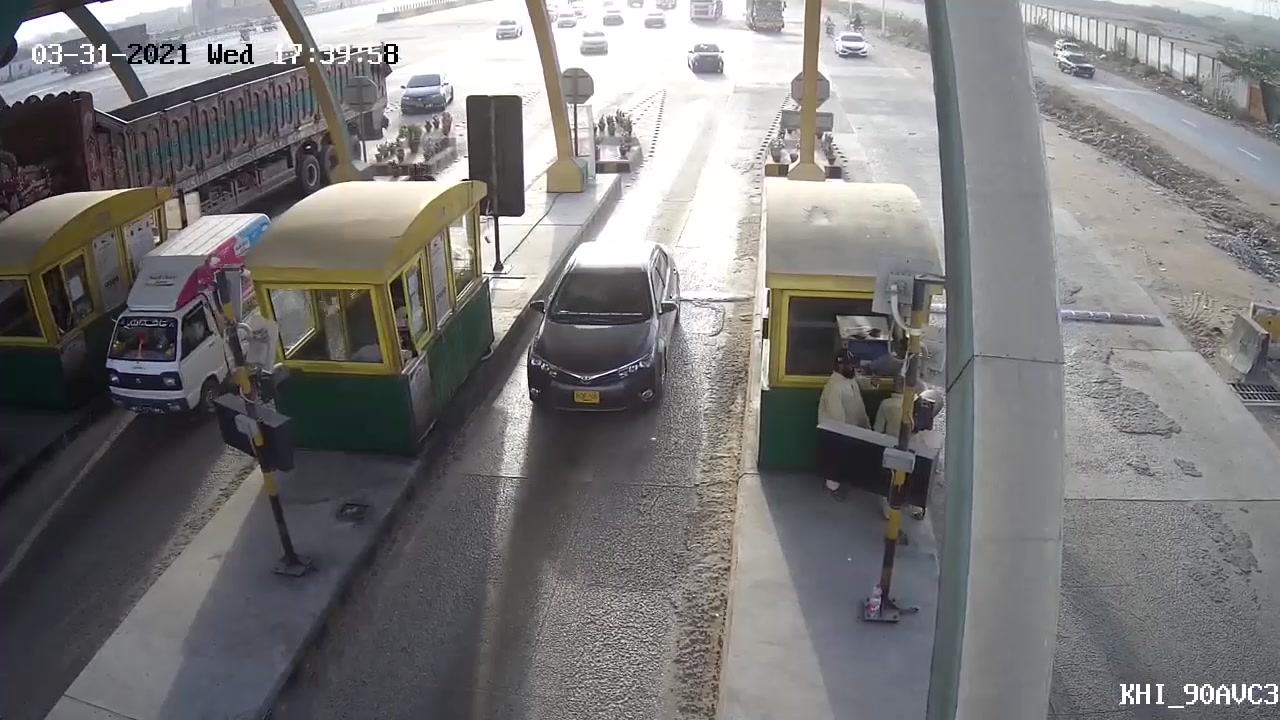F1: (520, 236, 692, 427)
